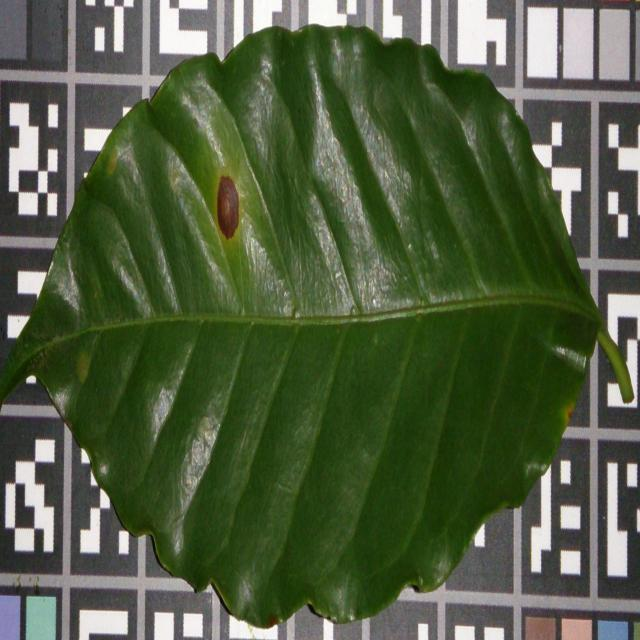Enfermedad-Mancha-de-hierro: (0, 27, 618, 630)
